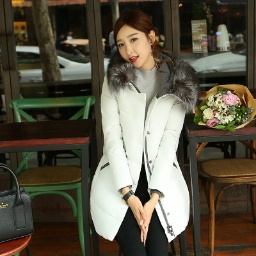face: (104, 16, 174, 81)
